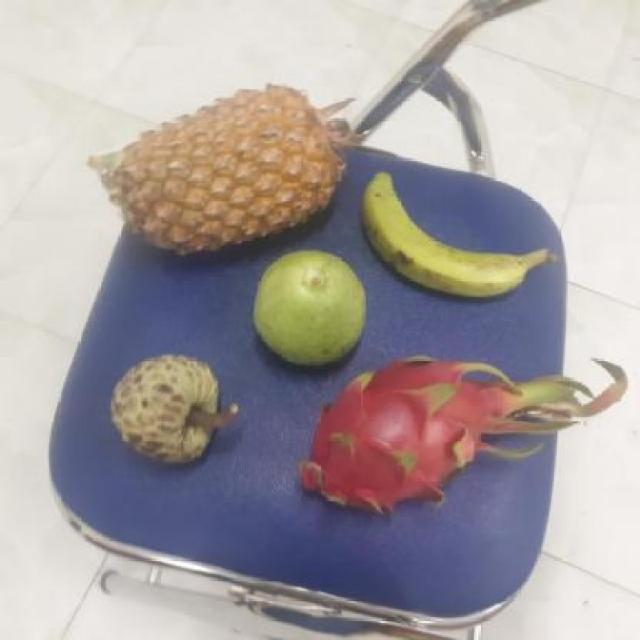banana: (351, 171, 532, 304)
dragon fruit: (286, 356, 505, 512)
guava: (248, 248, 368, 368)
pineapple: (109, 87, 336, 261)
sugar apple: (103, 355, 226, 463)
